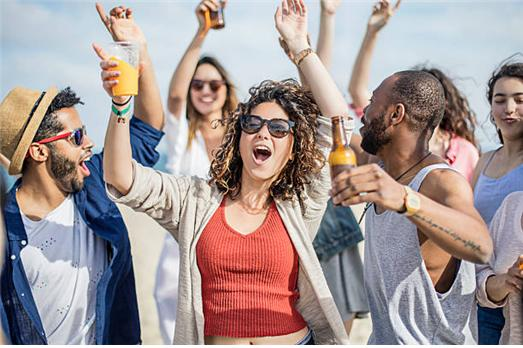alcohol: (326, 116, 364, 205), (201, 2, 227, 30)
